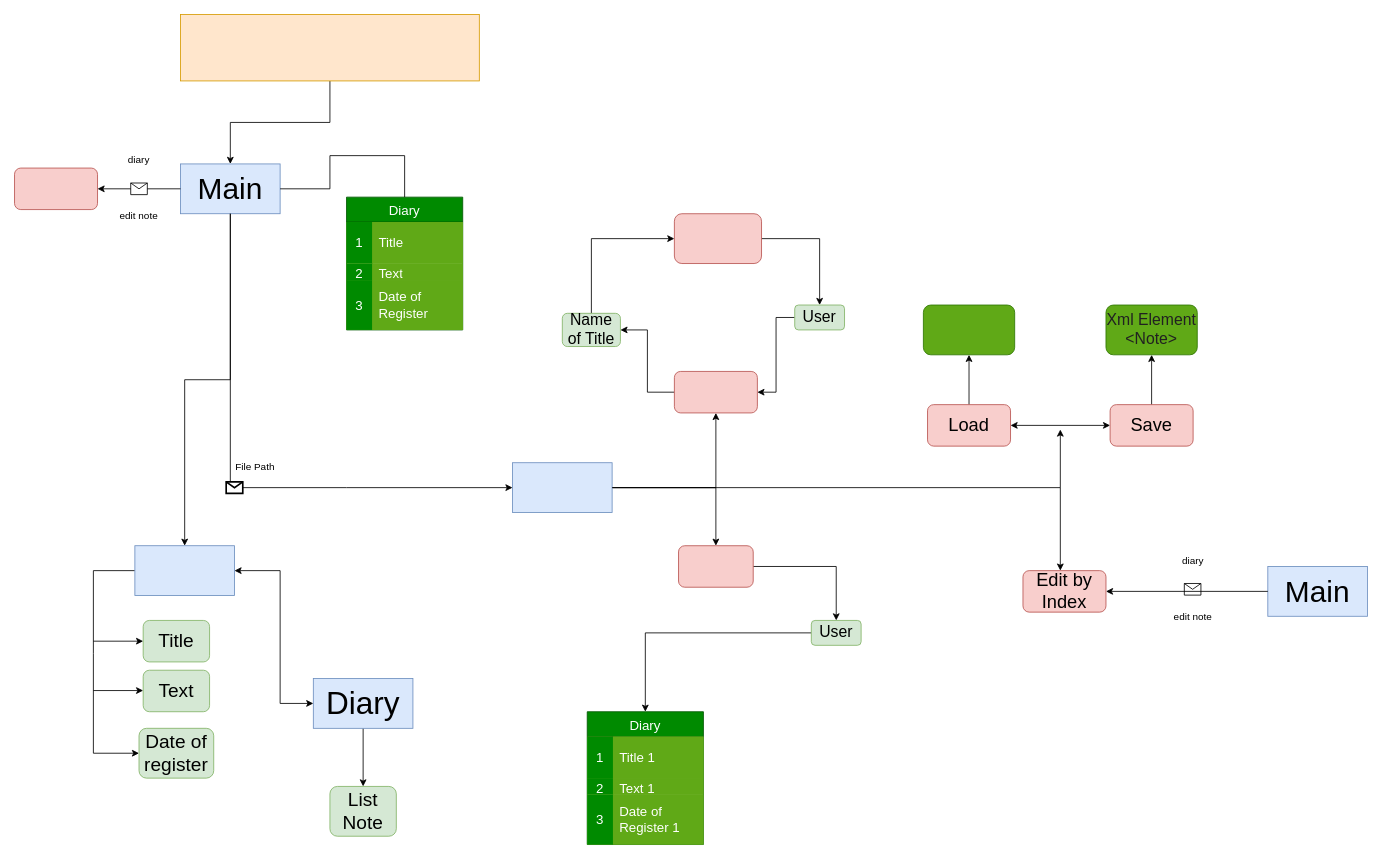
This 1382x859 diagram has some shape labels left out. The centre of each missing label's shape, as x and y in pixels:
Add: the point at 715,566
Edit bu index: the point at 56,188
FindByTitlte: the point at 718,238
Load User to ->: the point at 969,329
Note: the point at 184,570
NoteManager: the point at 562,487
PROJECT: the point at 329,47
Remove: the point at 715,392
